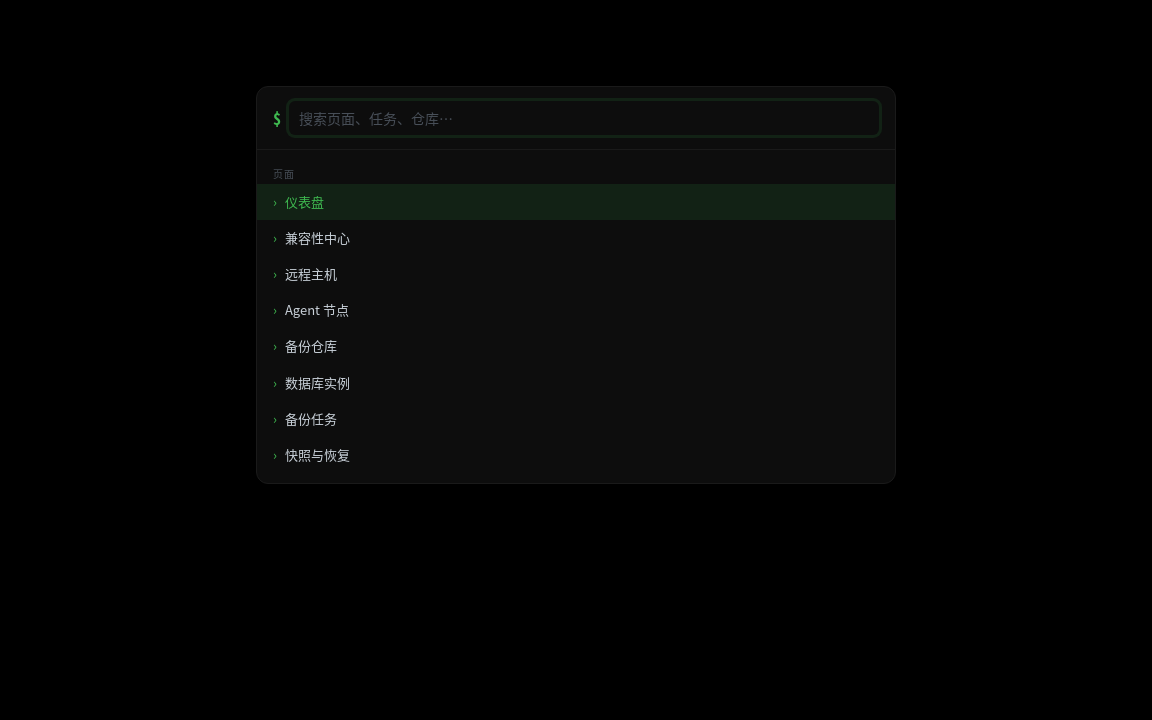
Test: CommandPalette › shows empty state when no matches
Type "zzznomatch" into the field labelled "搜索页面、任务、仓库…" at (584, 118), box [289,101,879,135]
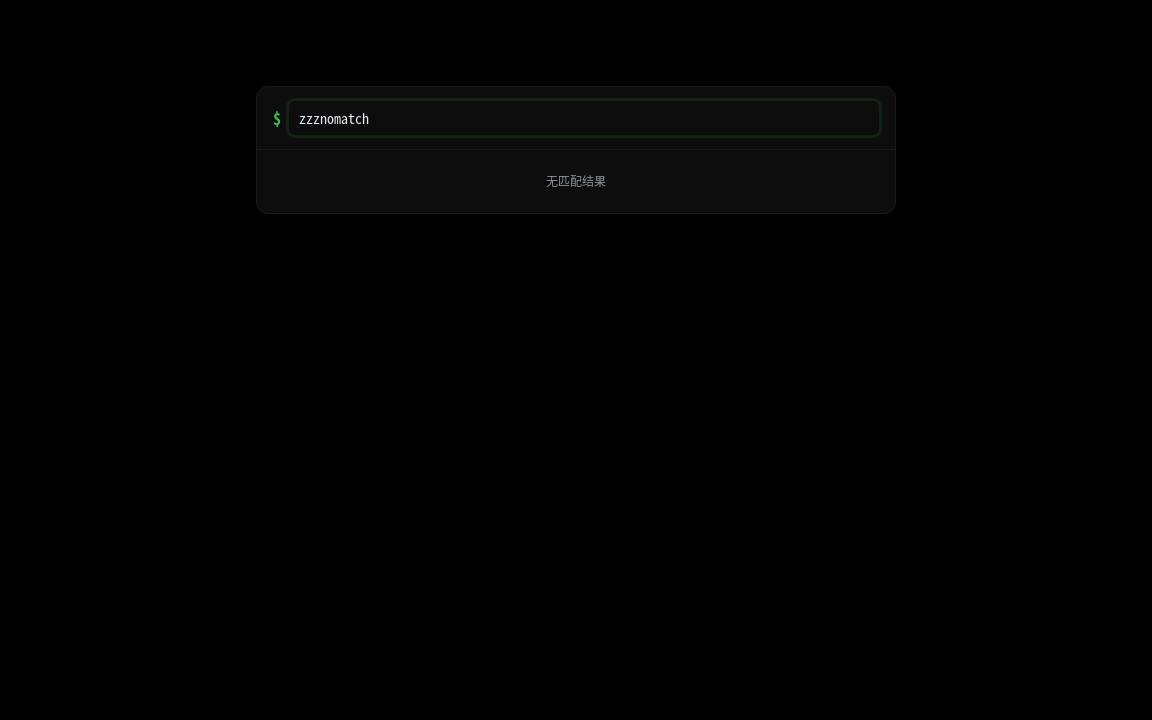
Result: the text "无匹配结果" is shown at [546,172,606,189]
